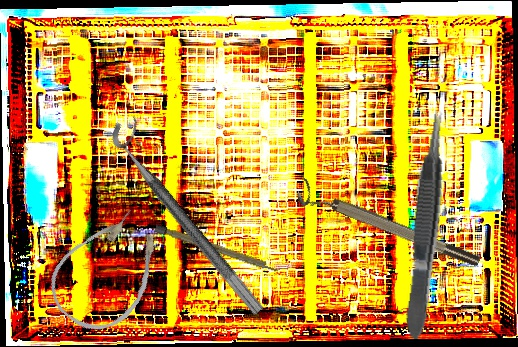Cannula: (36, 195, 181, 346)
Fixation Ring: (104, 111, 280, 317), (293, 178, 483, 278)
Scalpel Handle: (154, 223, 281, 275)
Tissue Forceps: (398, 109, 453, 340)
